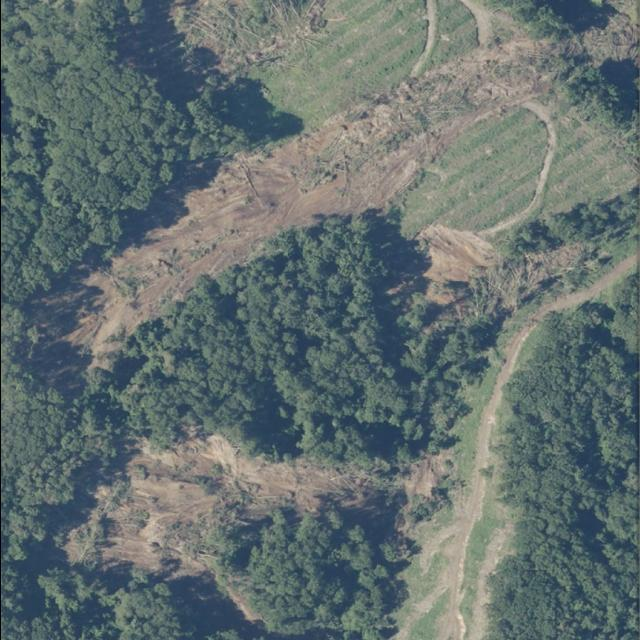landslide: (32, 14, 564, 370), (1, 436, 366, 640), (416, 224, 497, 285), (428, 289, 452, 304)
